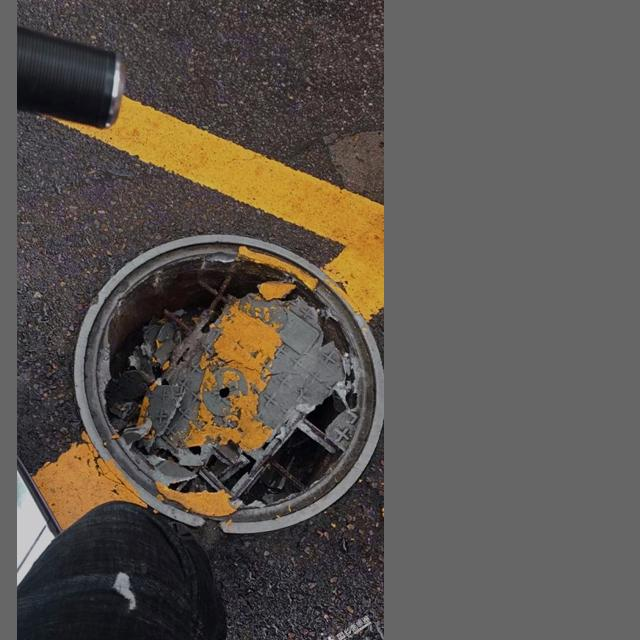broke: (58, 212, 369, 530)
